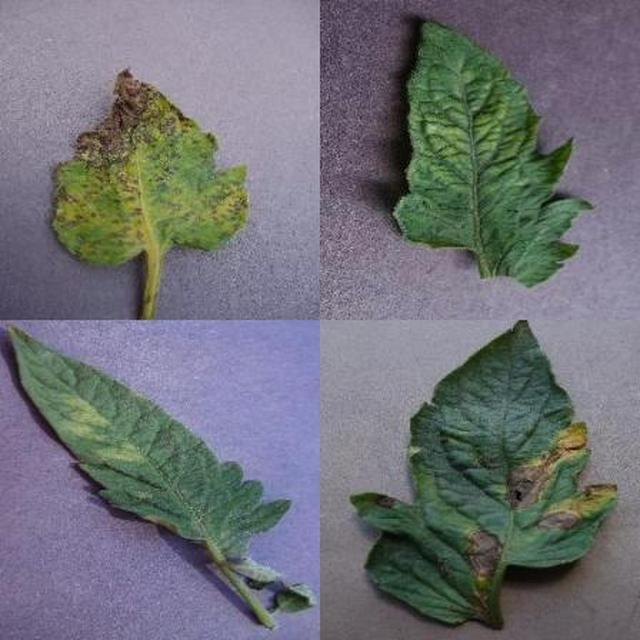Septoria Leaf: (213, 221, 640, 640)
